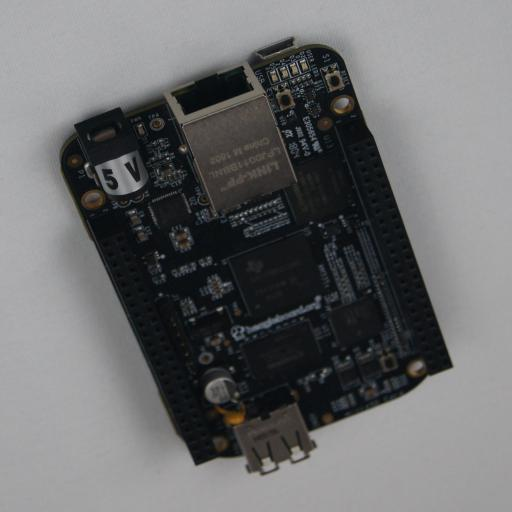Beaglebone Black: (59, 37, 453, 475)
